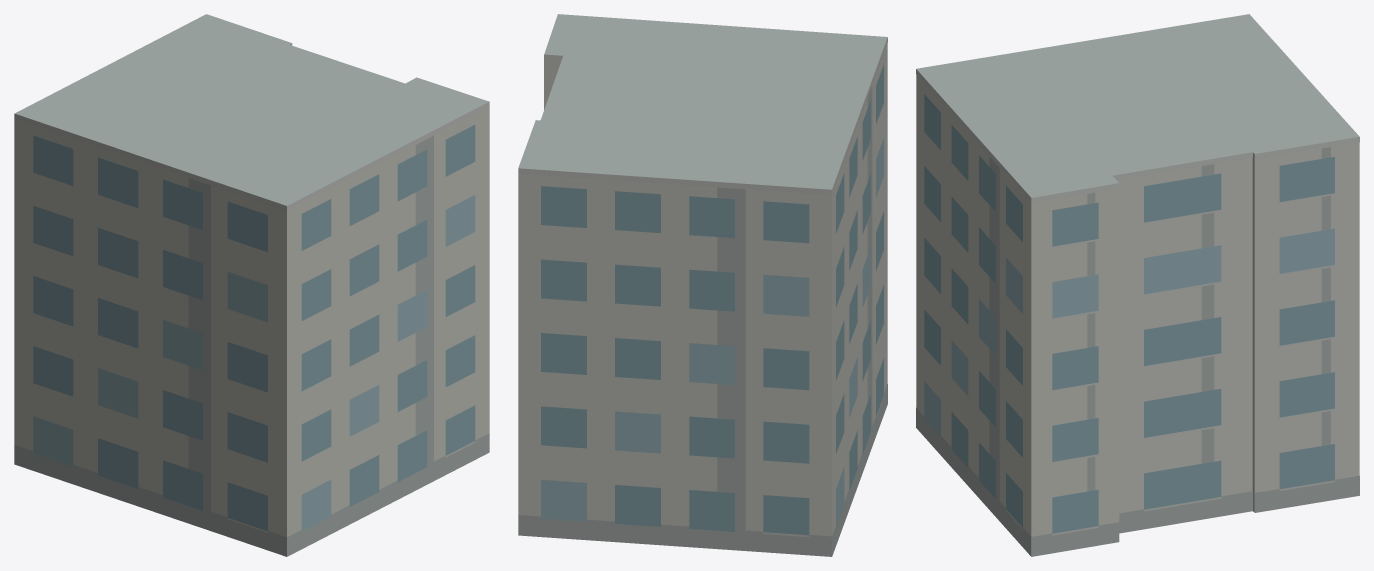
Rendered from survey-upis-32838658.glb.
The picture shows the model from 3 angles, left to right: view 1: azimuth 30°, elevation 25°; view 2: azimuth 150°, elevation 25°; view 3: azimuth 270°, elevation 25°; orthographic projection. The views are drawn at different scales.
Visible parts, largest first — view 1: survey-upis-32838658.tmp; view 2: survey-upis-32838658.tmp; view 3: survey-upis-32838658.tmp.
Part boxes in pixels (bbox=[...]): survey-upis-32838658.tmp: bbox=[14, 14, 489, 556]; survey-upis-32838658.tmp: bbox=[518, 14, 887, 556]; survey-upis-32838658.tmp: bbox=[916, 14, 1359, 556].
Size of the model in its own units: 17.81 by 16.2 by 18.16.
